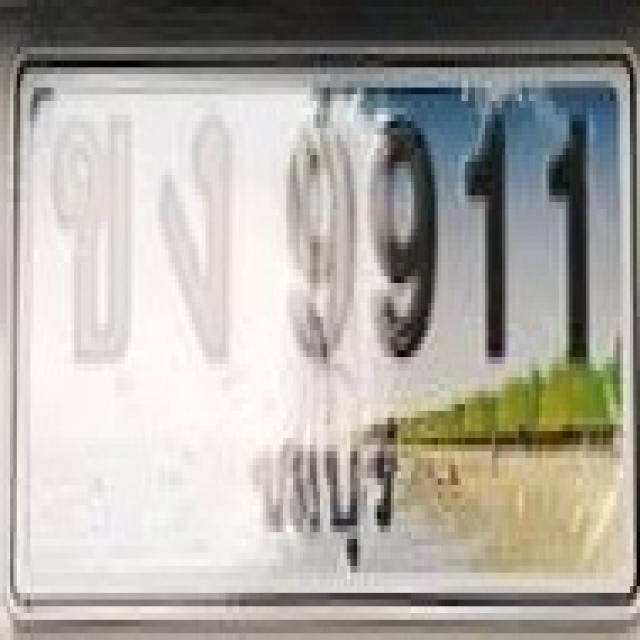license_plate: (11, 41, 640, 624)
